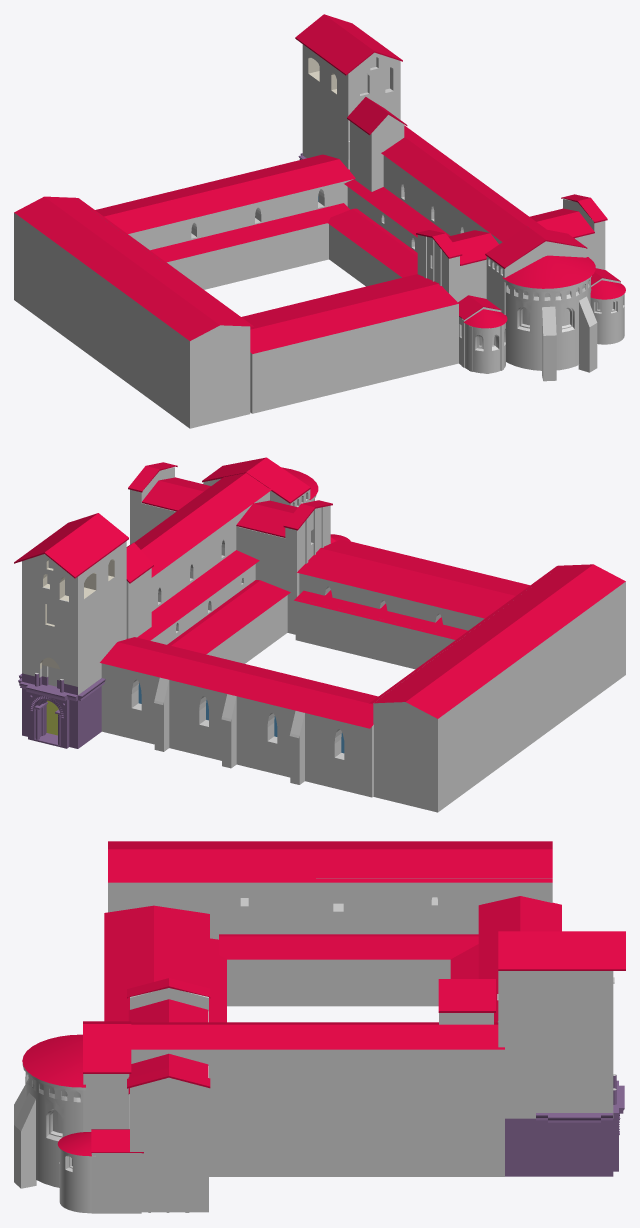
File: abbaye_gellone_Assemblé_V.2.glb
The picture shows the model from 3 angles, top to bottom: view 1: azimuth 30°, elevation 25°; view 2: azimuth 150°, elevation 25°; view 3: azimuth 270°, elevation 25°; orthographic projection. The views are drawn at different scales.
Visible parts, largest first — view 1: Cylinder.014; view 2: Cylinder.014; view 3: Cylinder.014.
Part boxes in pixels (<box>): Cylinder.014: <box>14,14,625,428</box>; Cylinder.014: <box>14,457,625,812</box>; Cylinder.014: <box>14,841,625,1213</box>.
Size of the model in its own units: 27 by 11.35 by 26.62.
